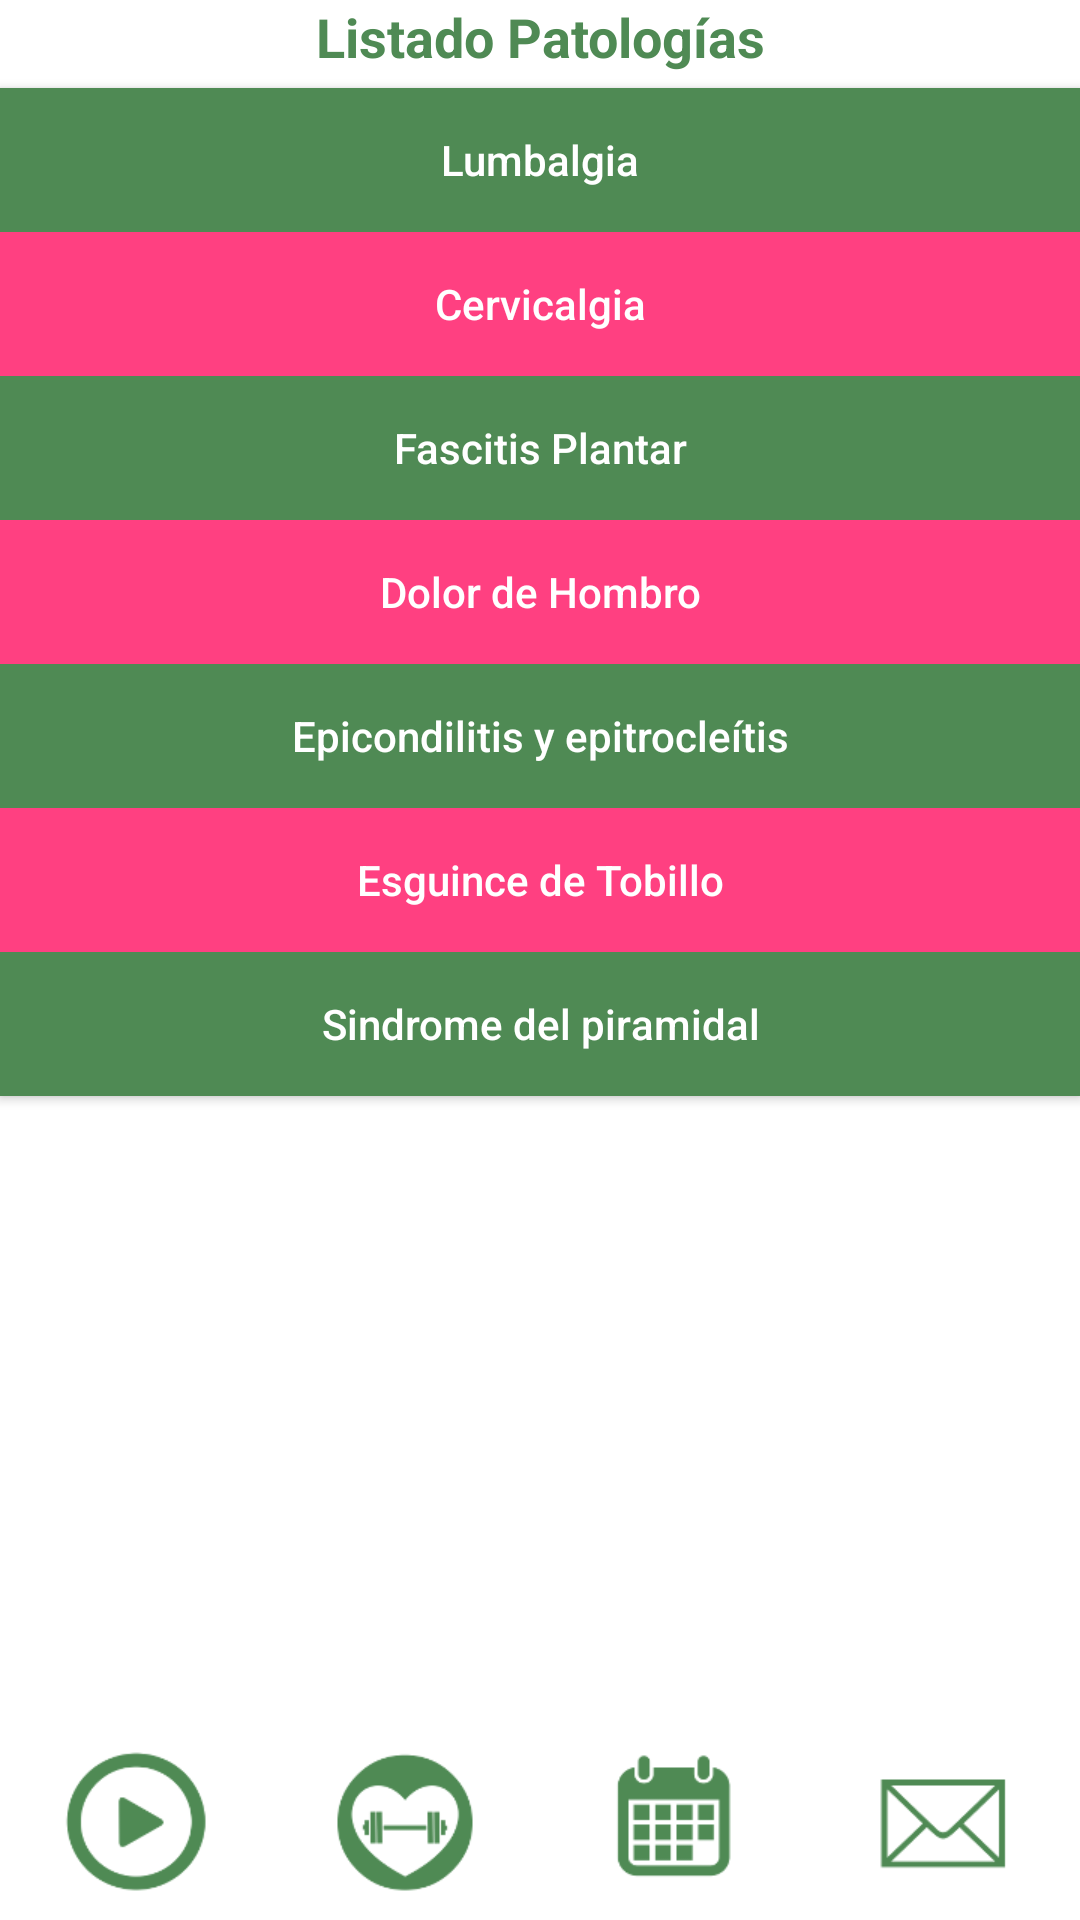

Named icons in this screenshot (1080 × 1920) and their bounding boxes, [x1,y1,x2,y2]:
calendario: [617,1755,731,1876]
contactomenu: [880,1779,1006,1868]
salud: [337,1754,473,1891]
youtubemenu: [66,1752,206,1891]
